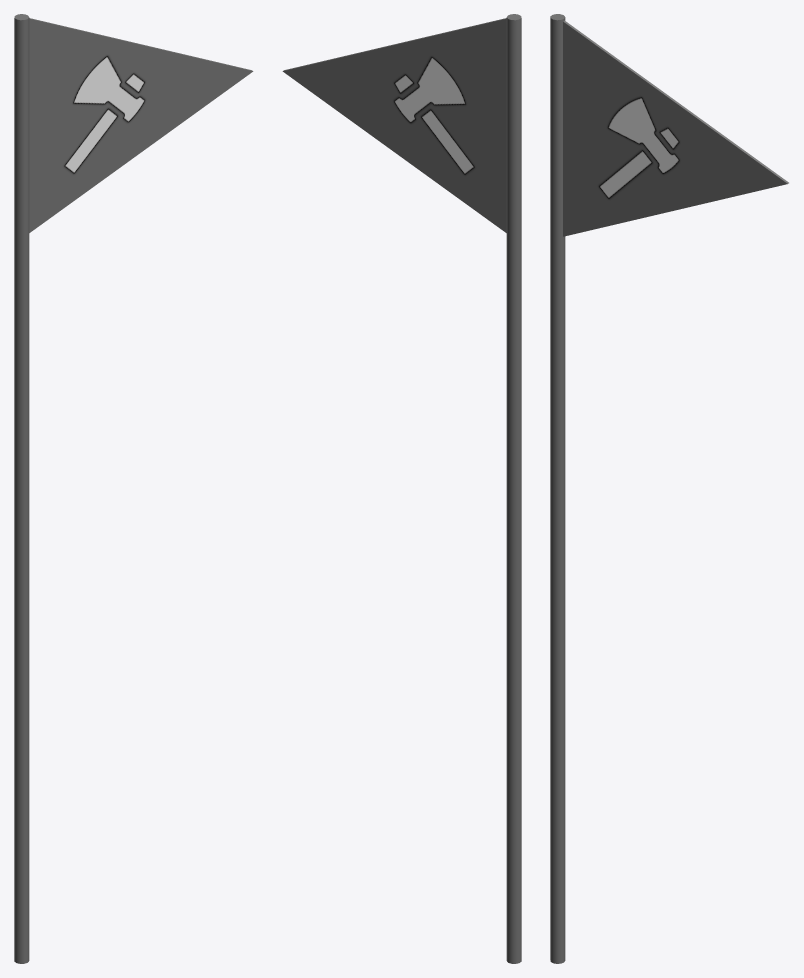
The model's file is Flag_PC.fbx.
3 views of the same model, side by side, from view 1: azimuth 30°, elevation 25°; view 2: azimuth 150°, elevation 25°; view 3: azimuth 330°, elevation 25° (orthographic).
Parts seen in each view (by area): view 1: Object004; view 2: Object004; view 3: Object004.
Boxes of the visible parts, left/top/right/bottom form: Object004: left=14, top=14, right=253, bottom=963; Object004: left=282, top=14, right=521, bottom=963; Object004: left=550, top=14, right=788, bottom=963.
Size of the model in its own units: 93.12 by 354 by 5.
1 material, 1 textured.
